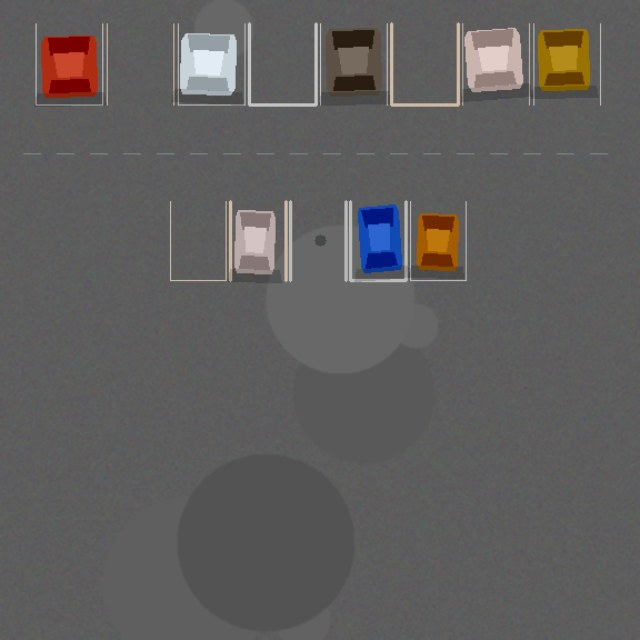space-empty: (249, 23, 316, 104), (391, 23, 458, 104), (107, 23, 173, 104), (170, 201, 226, 280), (290, 201, 346, 280)
space-occupied: (320, 23, 387, 104), (462, 23, 529, 104), (533, 23, 600, 104), (36, 23, 102, 104), (178, 23, 244, 104), (230, 201, 286, 280), (350, 201, 406, 280), (410, 201, 466, 280)
